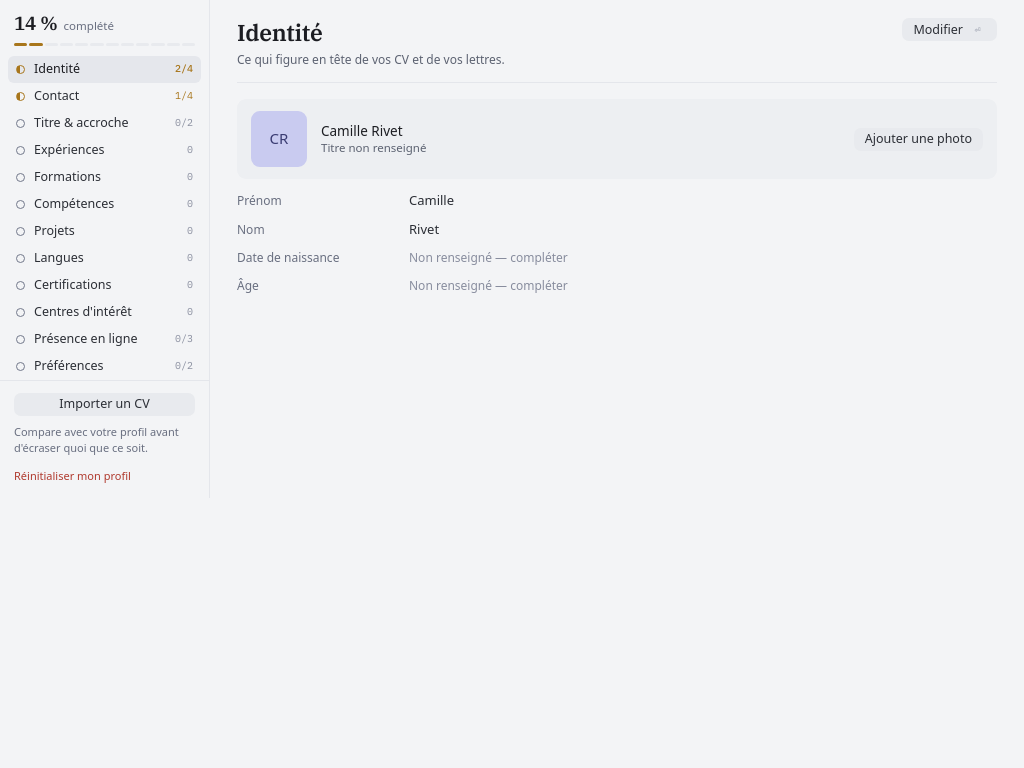
Test: écran Profil — sections › ouvre la modale Identité depuis la section dédiée
This screenshot has width=1024, height=768.
Click the tab "Identité 2/4": point(104, 69) x1=8 y1=56 x2=201 y2=83
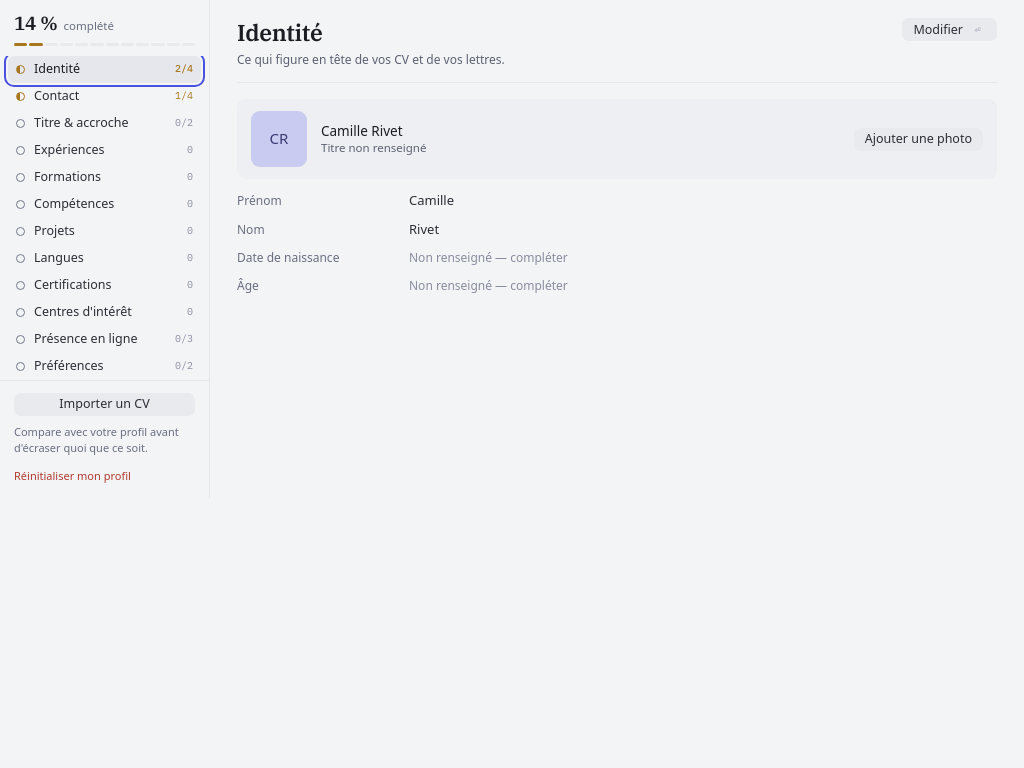
Click the button "Modifier ⏎": point(950, 30) x1=902 y1=18 x2=997 y2=41
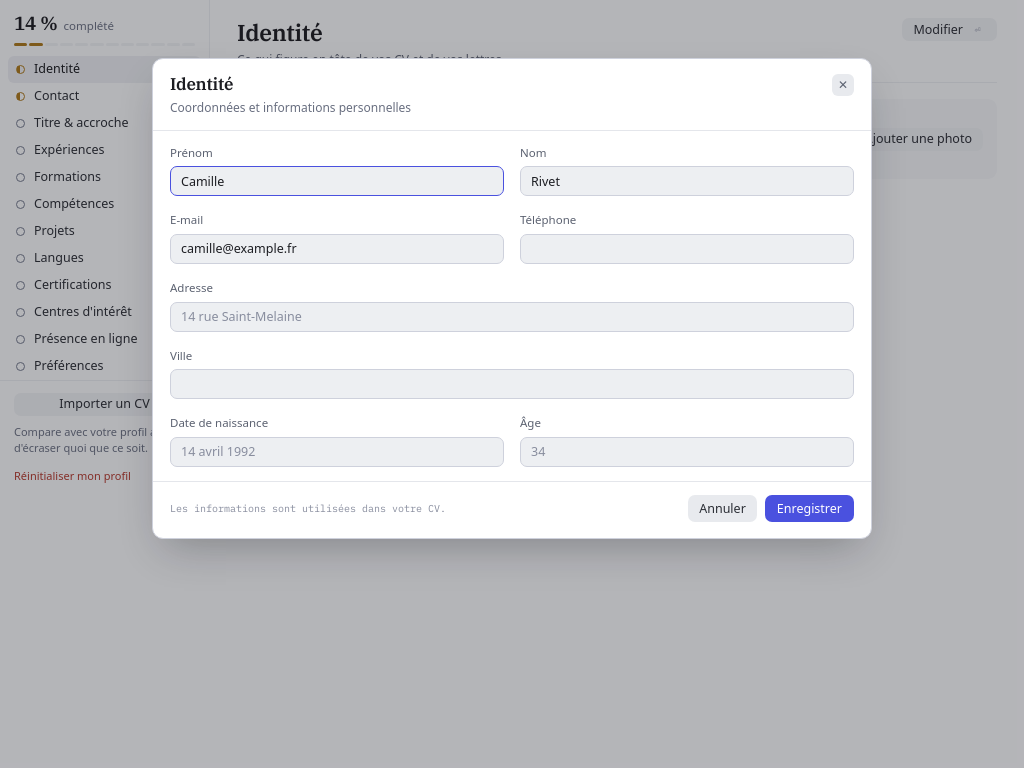
Now the dialog "Identité" is shown, box x1=152 y1=58 x2=872 y2=539
